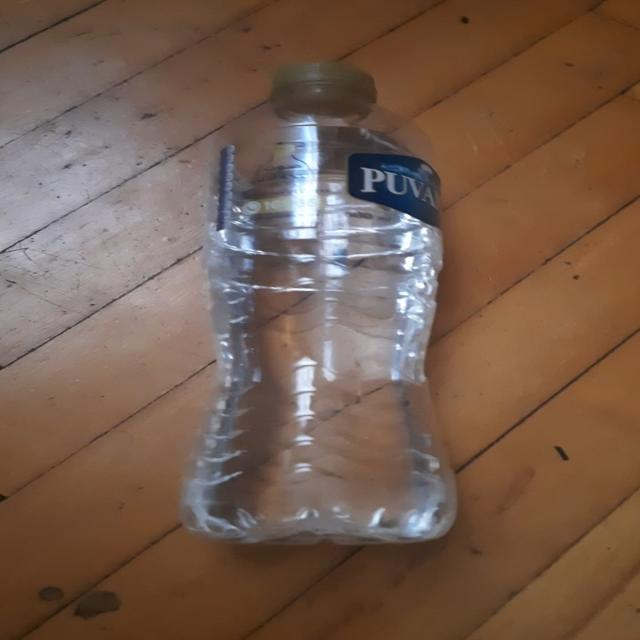Plastic: (178, 62, 459, 550)
